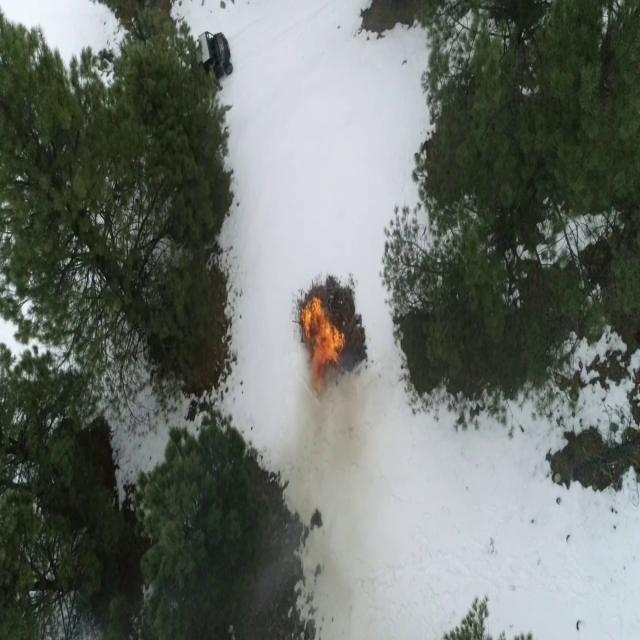fire: (300, 298, 343, 388)
